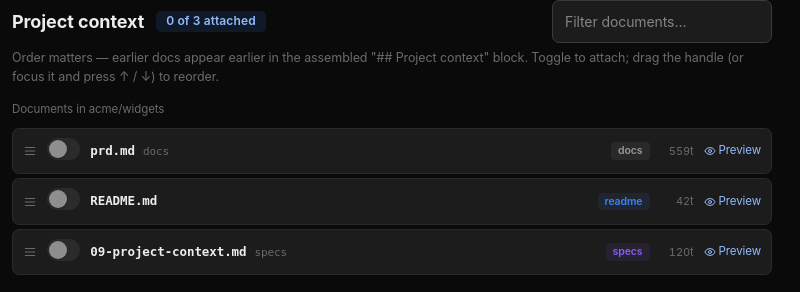
Scenario: ContextTab (agent editor) › filters the list by path and shows no-matches text
The width and height of the screenshot is (800, 292).
Expected: the text "README.md" is shown, [90,192,157,211]
Type "specs" into the field labelled "Filter documents…".
click(674, 22); type("specs")  # box [565,11,783,32]
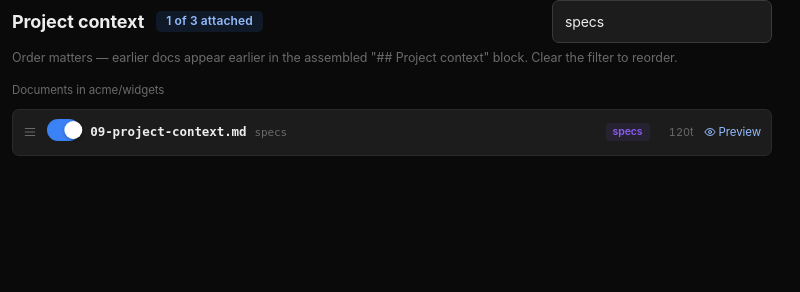
Expected: the text "09-project-context.md" is shown, [90,123,246,142]
Expected: the text "README.md" is gone
